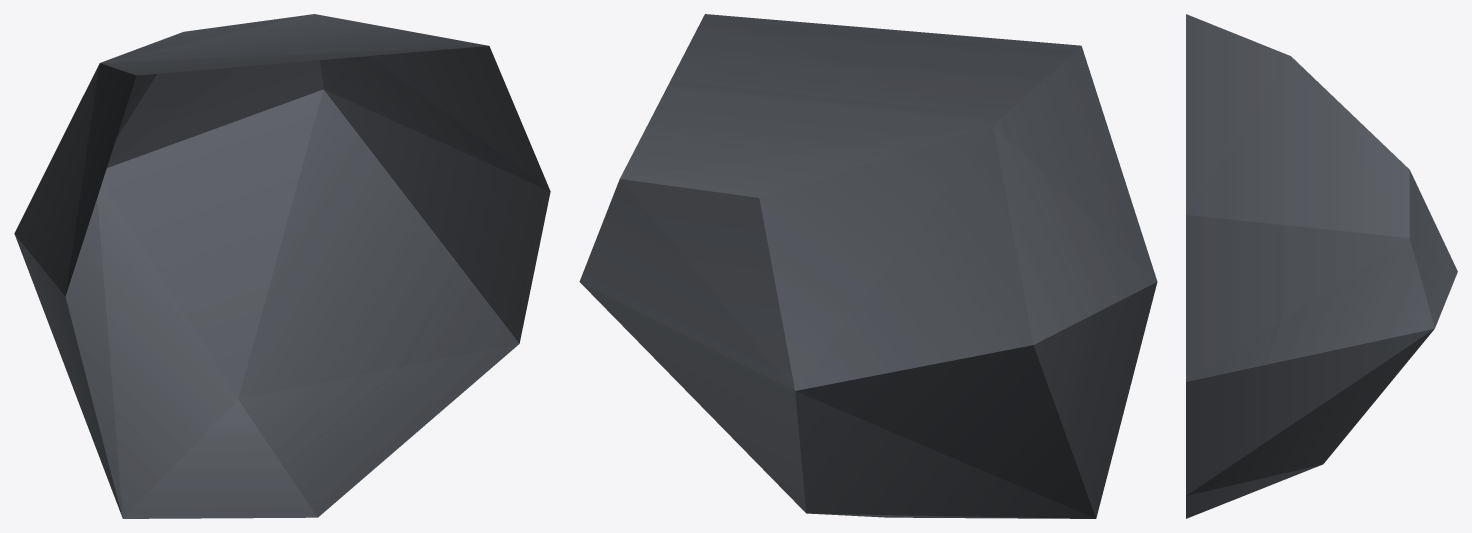
Rendered from Rock 01.FBX.
3 views of the same model, side by side, from view 1: azimuth 30°, elevation 25°; view 2: azimuth 150°, elevation 25°; view 3: azimuth 270°, elevation 25° (orthographic). The views are drawn at different scales.
Visible parts, largest first — view 1: Rock 01; view 2: Rock 01; view 3: Rock 01.
Part boxes in pixels (<box>): Rock 01: <box>14,14,550,518</box>; Rock 01: <box>579,14,1157,518</box>; Rock 01: <box>1186,14,1457,518</box>.
Size of the model in its own units: 37.81 by 36.22 by 20.9.
